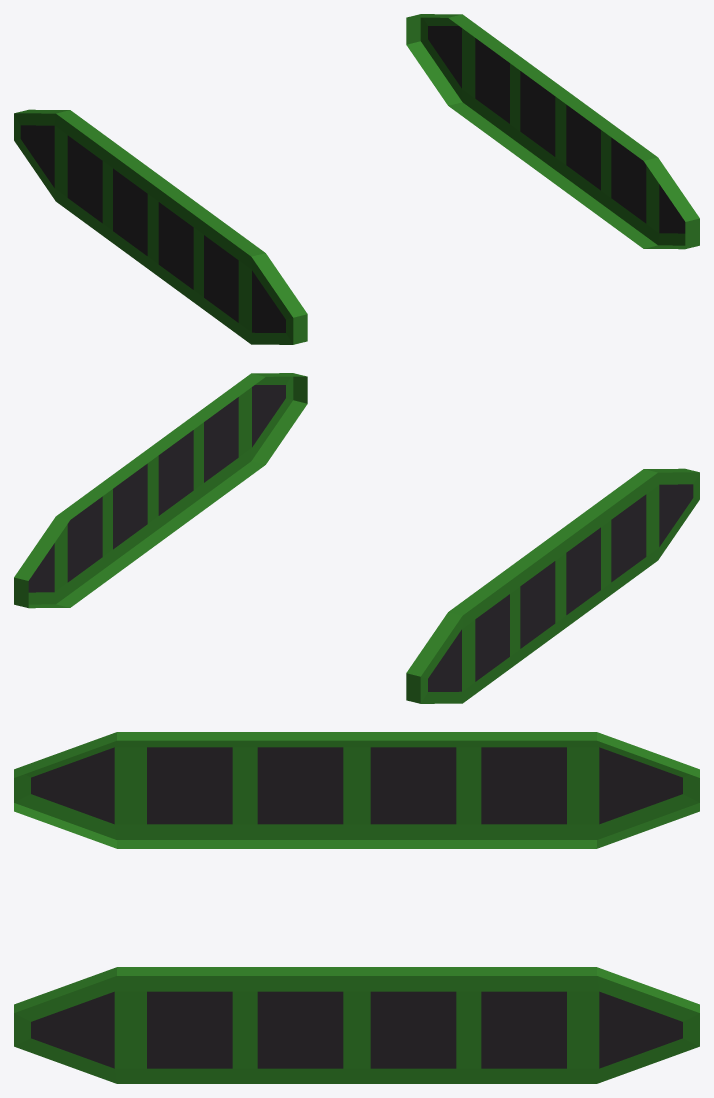
Rendered from Turn_Upgrade.glb.
3 renders of one model, top to bottom at view 1: azimuth 30°, elevation 25°; view 2: azimuth 150°, elevation 25°; view 3: azimuth 270°, elevation 25°, orthographic. The views are drawn at different scales.
Parts seen in each view (by area): view 1: Turn Upgrade; view 2: Turn Upgrade; view 3: Turn Upgrade.
Part boxes in pixels (bbox=[...]): Turn Upgrade: bbox=[14, 14, 699, 344]; Turn Upgrade: bbox=[14, 373, 699, 703]; Turn Upgrade: bbox=[14, 732, 699, 1083].
Size of the model in its own units: 1.49 by 0.3079 by 1.77.
